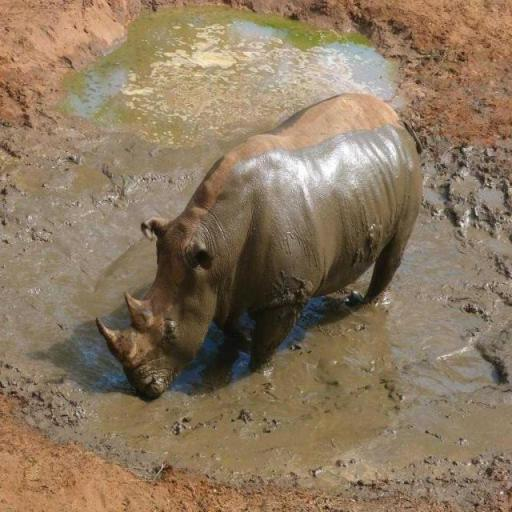Rhino: (94, 91, 424, 400)
